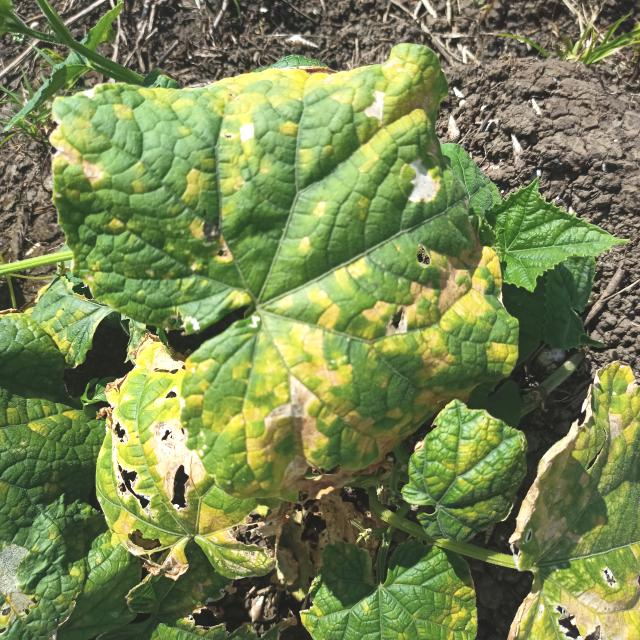disease_cucumber: (62, 58, 484, 564)
